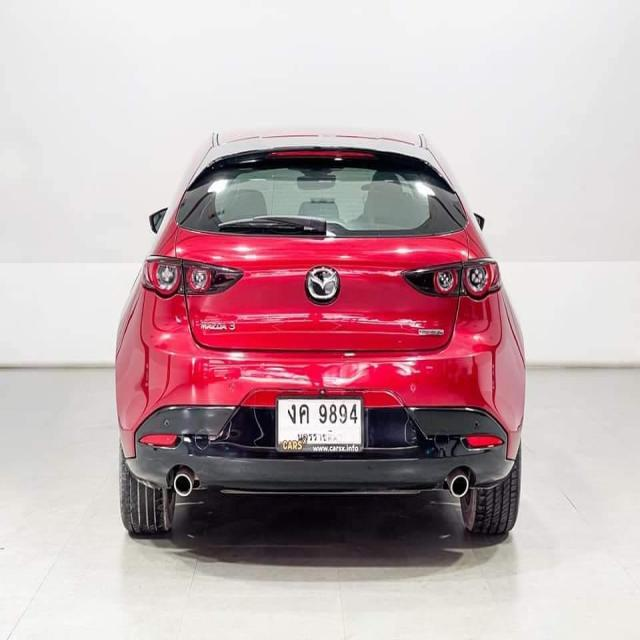Hatchback: (113, 124, 528, 548)
